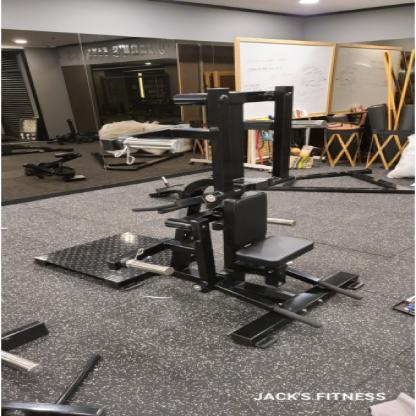lateral raises machine: (165, 179, 373, 351)
